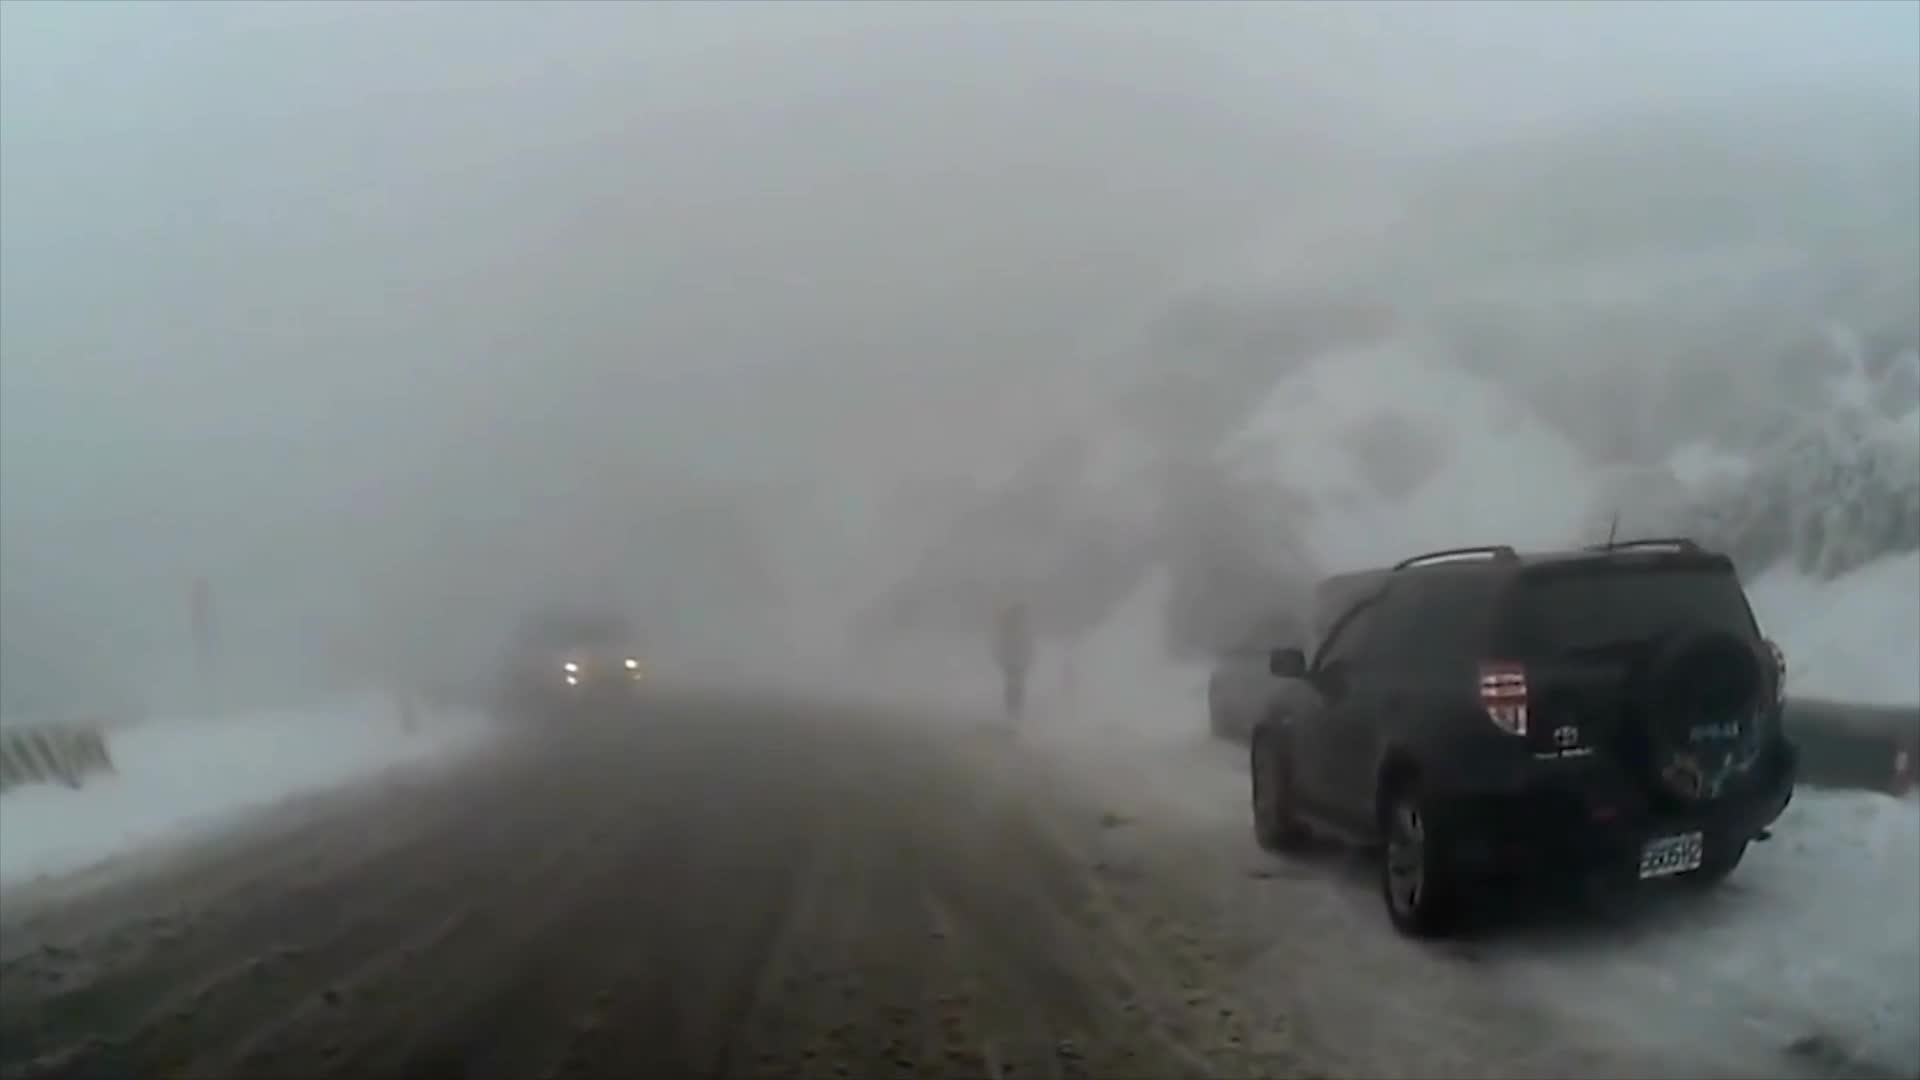pedestrian: (991, 604, 1038, 719)
vehicle: (1246, 533, 1798, 941), (517, 612, 651, 718)
